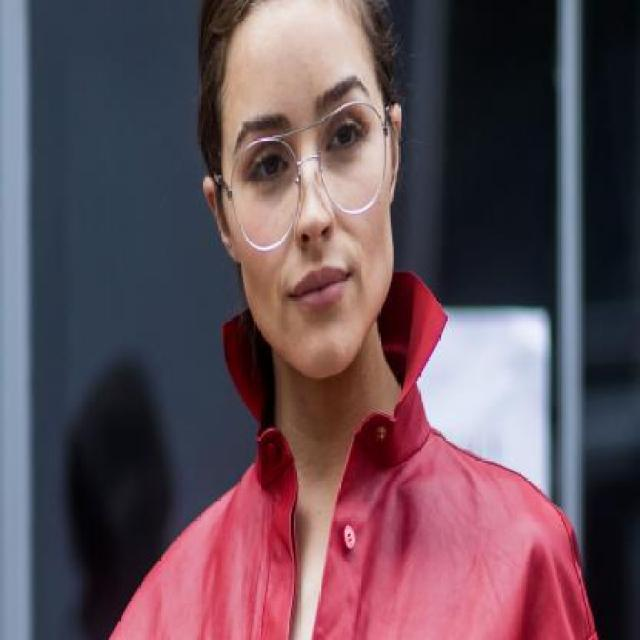mask: (228, 98, 392, 257)
